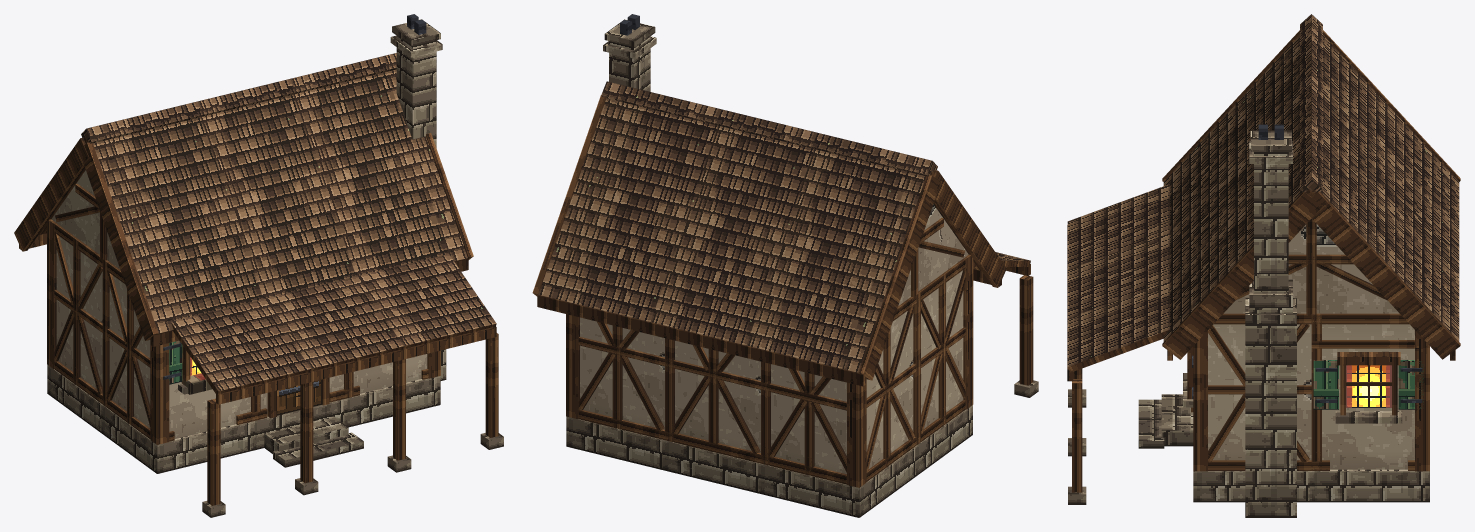
File: MV_Shop_A.glb
3 renders of one model, left to right at view 1: azimuth 30°, elevation 25°; view 2: azimuth 150°, elevation 25°; view 3: azimuth 270°, elevation 25°, orthographic. The views are drawn at different scales.
Visible parts, largest first — view 1: MV_Roof_GableShingle_2m_A.MV_Shop_A, MV_Roof_GableShingle_2m_A.MV_Shop_A.001, MV_Roof_GableShingle_2m_A.MV_Shop_A.002, MV_Roof_GableShingleEnd_A.MV_Shop_A, MV_Roof_LeanTo_2m_A.MV_Shop_A, MV_Roof_LeanTo_2m_A.MV_Shop_A.001, MV_Roof_LeanTo_2m_A.MV_Shop_A.002, MV_Wall_Timber_2m_A.MV_Shop_A.004, MV_Wall_Timber_2m_A.MV_Shop_A.005, MV_Chimney_Stone_A.MV_Shop_A, MV_Roof_GableShingleEnd_A.MV_Shop_A.001, MV_Foundation_DoorStep_A.MV_Shop_A (+17 smaller); view 2: MV_Roof_GableShingle_2m_A.MV_Shop_A, MV_Roof_GableShingle_2m_A.MV_Shop_A.002, MV_Roof_GableShingle_2m_A.MV_Shop_A.001, MV_Roof_GableShingleEnd_A.MV_Shop_A, MV_Wall_Timber_2m_A.MV_Shop_A.002, MV_Wall_Timber_2m_A.MV_Shop_A.003, MV_Wall_Timber_2m_A.MV_Shop_A.001, MV_Wall_Timber_2m_A.MV_Shop_A.005, MV_Wall_Timber_2m_A.MV_Shop_A.004, MV_Roof_GableShingleEnd_A.MV_Shop_A.001, MV_Foundation_Stone_2m_A.MV_Shop_A.005, MV_Foundation_Stone_2m_A.MV_Shop_A.003 (+9 smaller); view 3: MV_Chimney_Stone_A.MV_Shop_A, MV_Roof_GableShingle_2m_A.MV_Shop_A, MV_Roof_GableShingle_2m_A.MV_Shop_A.001, MV_Roof_GableShingle_2m_A.MV_Shop_A.002, MV_Roof_GableShingleEnd_A.MV_Shop_A.001, MV_Wall_Timber_2m_B.MV_Shop_A.003, MV_Wall_Timber_2m_A.MV_Shop_A, MV_Window_Shutter_A.MV_Shop_A.002, MV_Wall_Gable_4m_A.MV_Shop_A.001, MV_Roof_LeanTo_2m_A.MV_Shop_A.002, MV_Roof_LeanTo_2m_A.MV_Shop_A.001, MV_Roof_LeanTo_2m_A.MV_Shop_A (+8 smaller).
Part boxes in pixels (x1=…): MV_Roof_GableShingle_2m_A.MV_Shop_A: x1=40, y1=101, x2=263, y2=342; MV_Roof_GableShingle_2m_A.MV_Shop_A.001: x1=197, y1=79, x2=356, y2=298; MV_Roof_GableShingle_2m_A.MV_Shop_A.002: x1=290, y1=56, x2=448, y2=276; MV_Roof_GableShingleEnd_A.MV_Shop_A: x1=14, y1=124, x2=173, y2=346; MV_Roof_LeanTo_2m_A.MV_Shop_A: x1=171, y1=299, x2=311, y2=404; MV_Roof_LeanTo_2m_A.MV_Shop_A.001: x1=264, y1=276, x2=403, y2=381; MV_Roof_LeanTo_2m_A.MV_Shop_A.002: x1=357, y1=254, x2=496, y2=359; MV_Wall_Timber_2m_A.MV_Shop_A.004: x1=49, y1=219, x2=102, y2=404; MV_Wall_Timber_2m_A.MV_Shop_A.005: x1=102, y1=259, x2=169, y2=438; MV_Chimney_Stone_A.MV_Shop_A: x1=390, y1=14, x2=446, y2=380; MV_Roof_GableShingleEnd_A.MV_Shop_A.001: x1=383, y1=53, x2=473, y2=271; MV_Foundation_DoorStep_A.MV_Shop_A: x1=264, y1=416, x2=363, y2=467; MV_Roof_GableShingle_2m_A.MV_Shop_A: x1=746, y1=133, x2=980, y2=381; MV_Roof_GableShingle_2m_A.MV_Shop_A.002: x1=554, y1=86, x2=721, y2=334; MV_Roof_GableShingle_2m_A.MV_Shop_A.001: x1=650, y1=109, x2=817, y2=358; MV_Roof_GableShingleEnd_A.MV_Shop_A: x1=842, y1=156, x2=1006, y2=386; MV_Wall_Timber_2m_A.MV_Shop_A.002: x1=665, y1=338, x2=760, y2=463; MV_Wall_Timber_2m_A.MV_Shop_A.003: x1=761, y1=361, x2=846, y2=484; MV_Wall_Timber_2m_A.MV_Shop_A.001: x1=578, y1=317, x2=664, y2=440; MV_Wall_Timber_2m_A.MV_Shop_A.005: x1=913, y1=254, x2=970, y2=445; MV_Wall_Timber_2m_A.MV_Shop_A.004: x1=846, y1=296, x2=915, y2=481; MV_Roof_GableShingleEnd_A.MV_Shop_A.001: x1=532, y1=81, x2=625, y2=311; MV_Foundation_Stone_2m_A.MV_Shop_A.005: x1=758, y1=463, x2=858, y2=517; MV_Foundation_Stone_2m_A.MV_Shop_A.003: x1=662, y1=440, x2=762, y2=494; MV_Chimney_Stone_A.MV_Shop_A: x1=1245, y1=124, x2=1296, y2=517; MV_Roof_GableShingle_2m_A.MV_Shop_A: x1=1169, y1=24, x2=1459, y2=238; MV_Roof_GableShingle_2m_A.MV_Shop_A.001: x1=1169, y1=72, x2=1459, y2=286; MV_Roof_GableShingle_2m_A.MV_Shop_A.002: x1=1169, y1=121, x2=1459, y2=335; MV_Roof_GableShingleEnd_A.MV_Shop_A.001: x1=1162, y1=169, x2=1460, y2=360; MV_Wall_Timber_2m_B.MV_Shop_A.003: x1=1311, y1=313, x2=1414, y2=470; MV_Wall_Timber_2m_A.MV_Shop_A: x1=1208, y1=313, x2=1311, y2=470; MV_Window_Shutter_A.MV_Shop_A.002: x1=1313, y1=352, x2=1423, y2=423; MV_Wall_Gable_4m_A.MV_Shop_A.001: x1=1224, y1=218, x2=1399, y2=314; MV_Roof_LeanTo_2m_A.MV_Shop_A.002: x1=1067, y1=281, x2=1169, y2=381; MV_Roof_LeanTo_2m_A.MV_Shop_A.001: x1=1067, y1=232, x2=1169, y2=321; MV_Roof_LeanTo_2m_A.MV_Shop_A: x1=1067, y1=184, x2=1169, y2=273.
Bounding box in the file's own units: 7.16 × 7.34 × 6.85.
10 materials, 10 textured.
